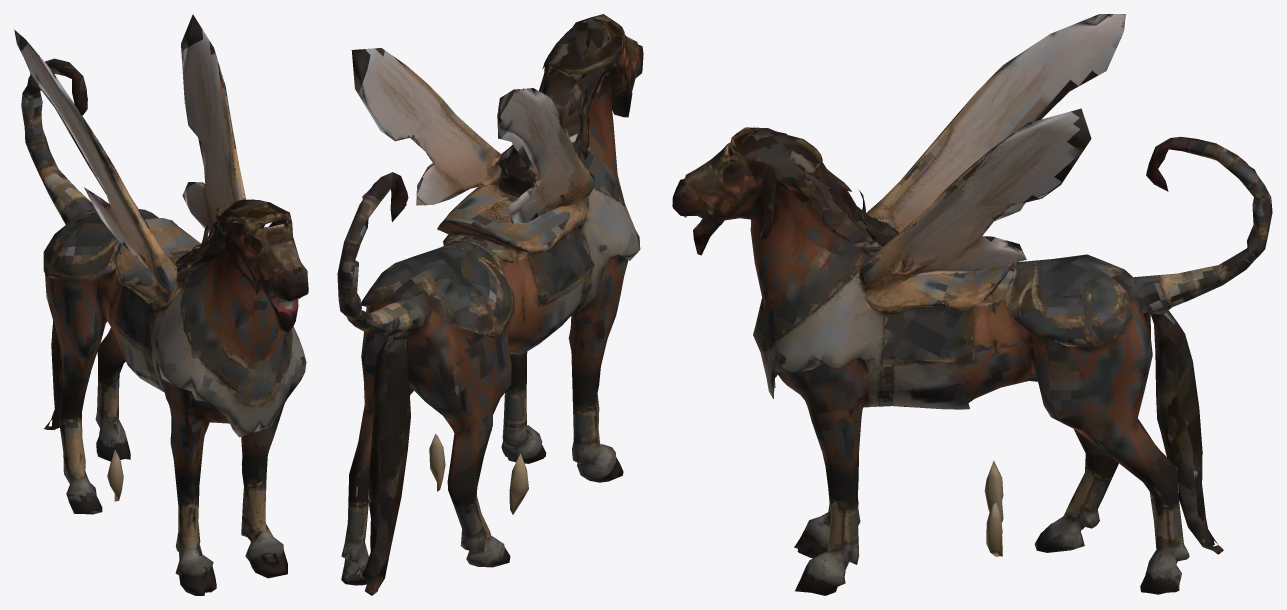
Rendered from locust.glb.
The picture shows the model from 3 angles, left to right: view 1: azimuth 30°, elevation 25°; view 2: azimuth 150°, elevation 25°; view 3: azimuth 270°, elevation 25°; orthographic projection. The views are drawn at different scales.
Visible parts, largest first — view 1: geometry_0; view 2: geometry_0; view 3: geometry_0.
Boxes of the visible parts, left/top/right/bottom form: geometry_0: left=14, top=14, right=308, bottom=595; geometry_0: left=337, top=14, right=643, bottom=595; geometry_0: left=672, top=14, right=1272, bottom=595.
Size of the model in its own units: 0.3349 by 0.9352 by 0.9919.
Materials: 1 (1 with a texture image).
